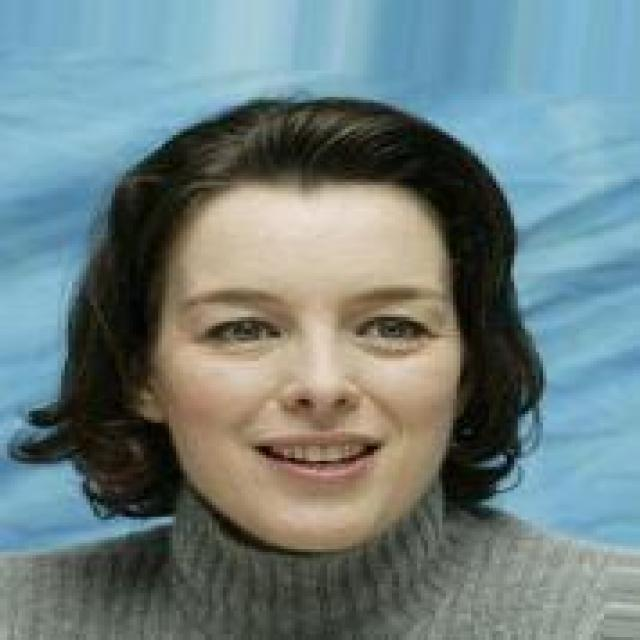nomask: (47, 123, 550, 540)
